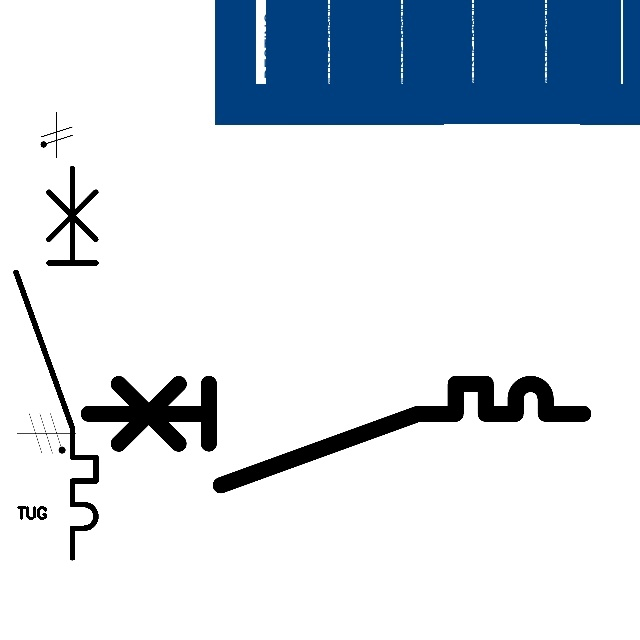interruptor_termomagnetico: (75, 371, 595, 498), (6, 158, 106, 568)
